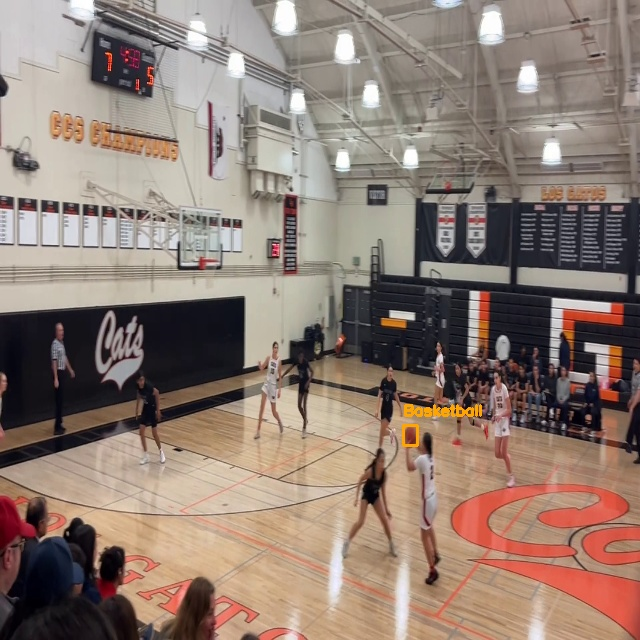Basketball: (403, 425, 417, 445)
